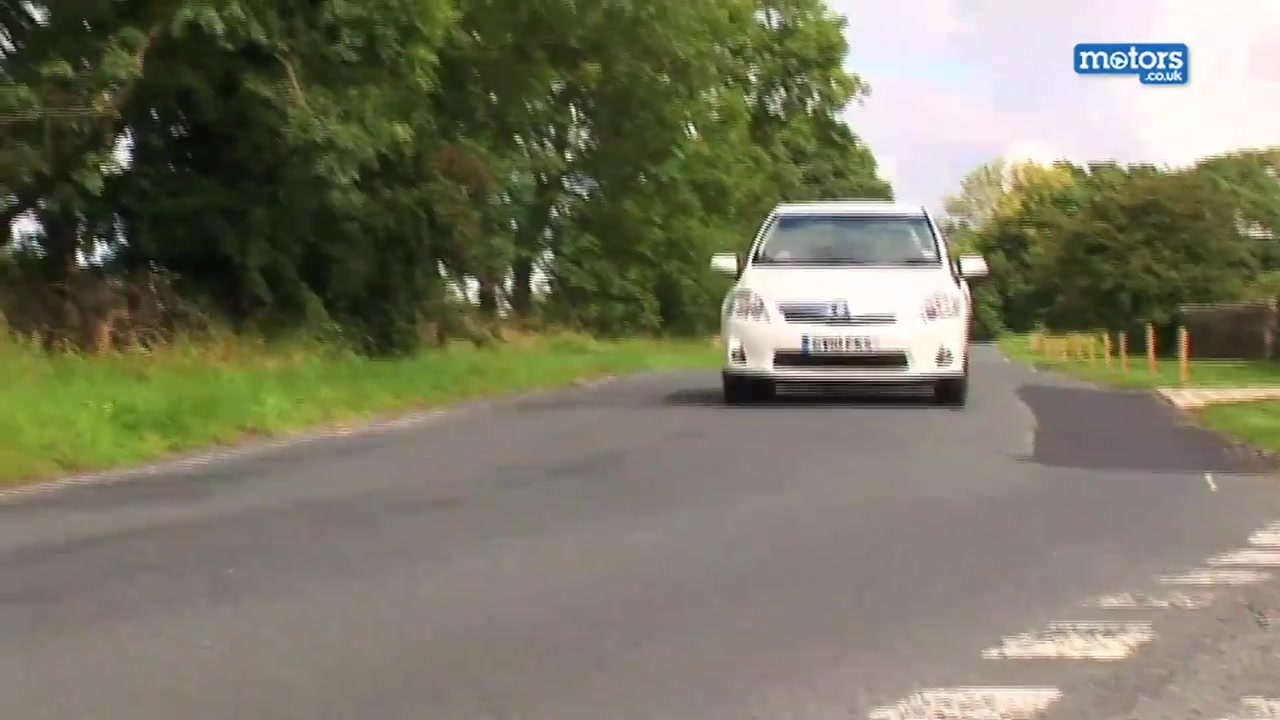car: (705, 193, 989, 407)
